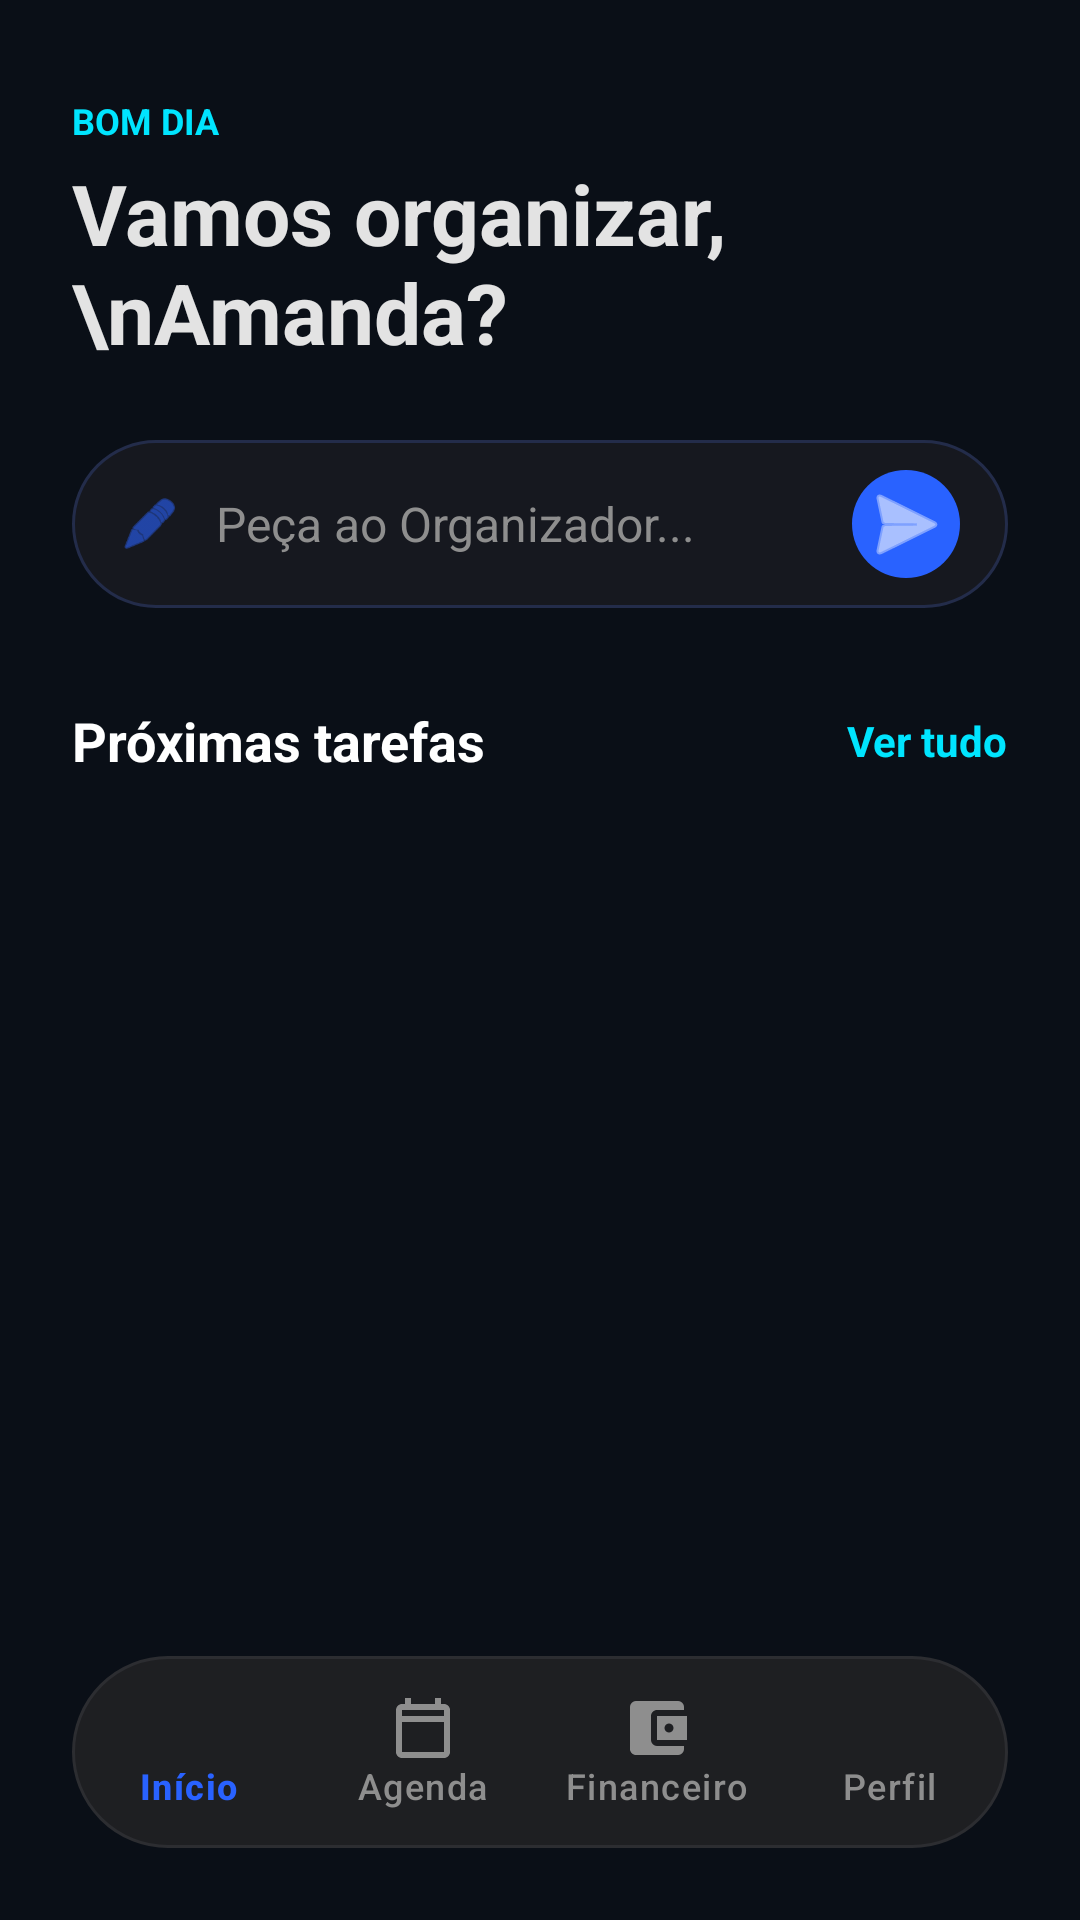

Icons on this 1080px×1920px Android screen, each with the point to tap as (x=x, y=y):
edit: (x=149, y=523)
send: (x=906, y=524)
